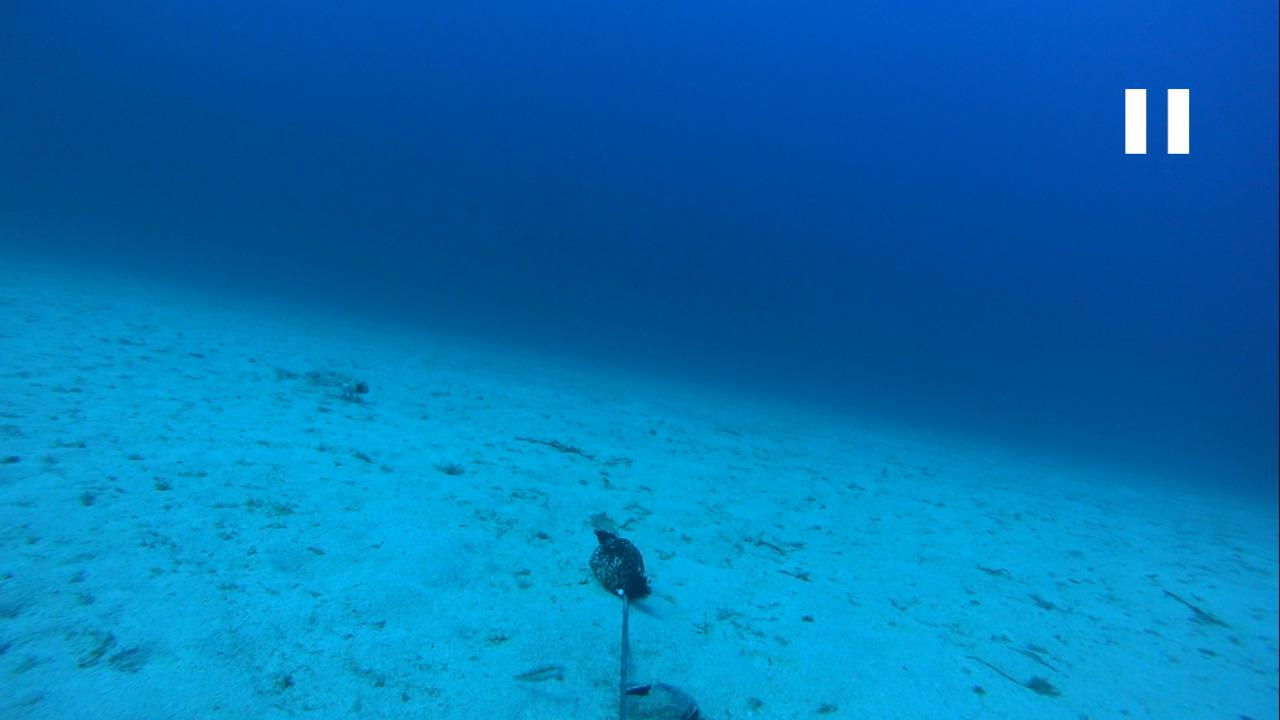dactylopterus: (267, 353, 374, 406)
